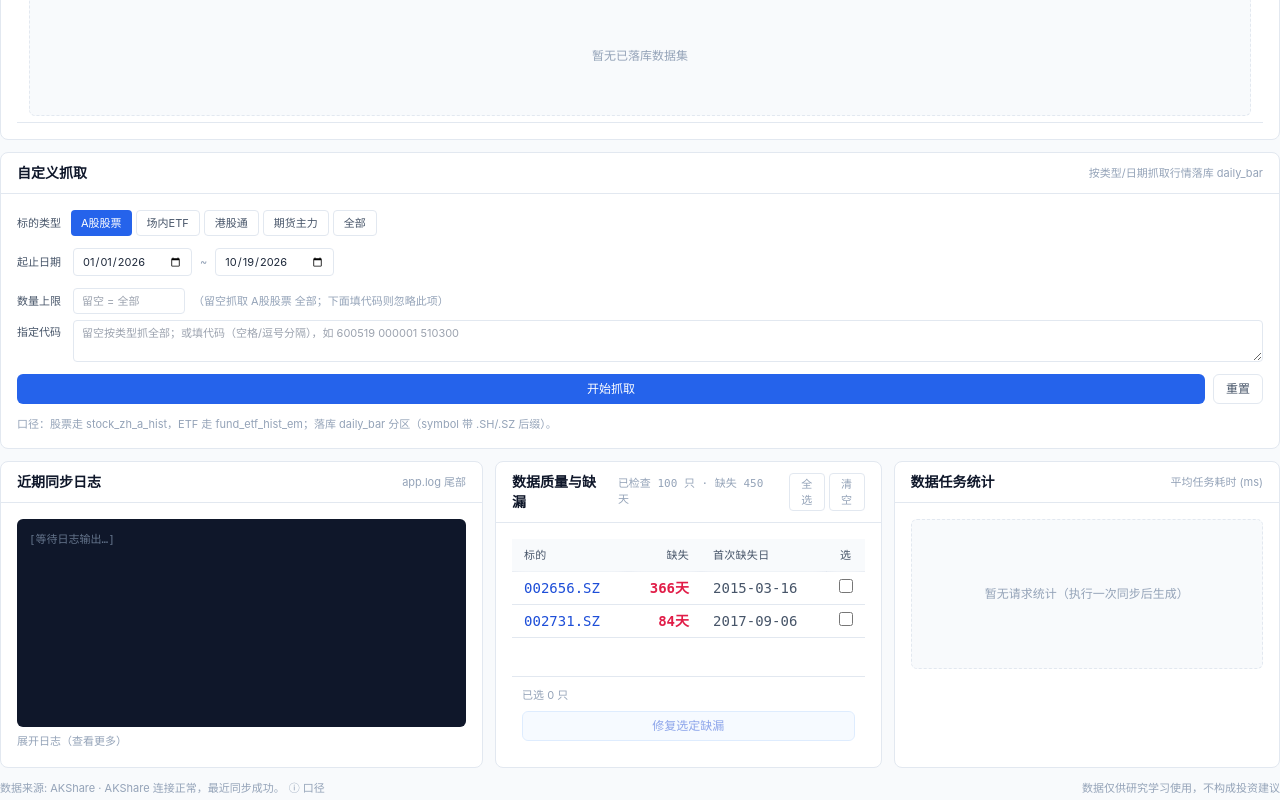
Test case: 修复缺漏后质量表必须刷新 › 手动「修复选定缺漏」确认后，任务结束同样触发质量面板刷新
The image size is (1280, 800).
(page scrolled)
Expected: the link "002656.SZ" is shown, x1=524 y1=578 x2=600 y2=598
# 全选 → 修复选定缺漏 → 二次确认 → 触发 sync（走 startSync，进入运行态）
Click the button "全选" at [807, 492], box x1=789 y1=473 x2=825 y2=511
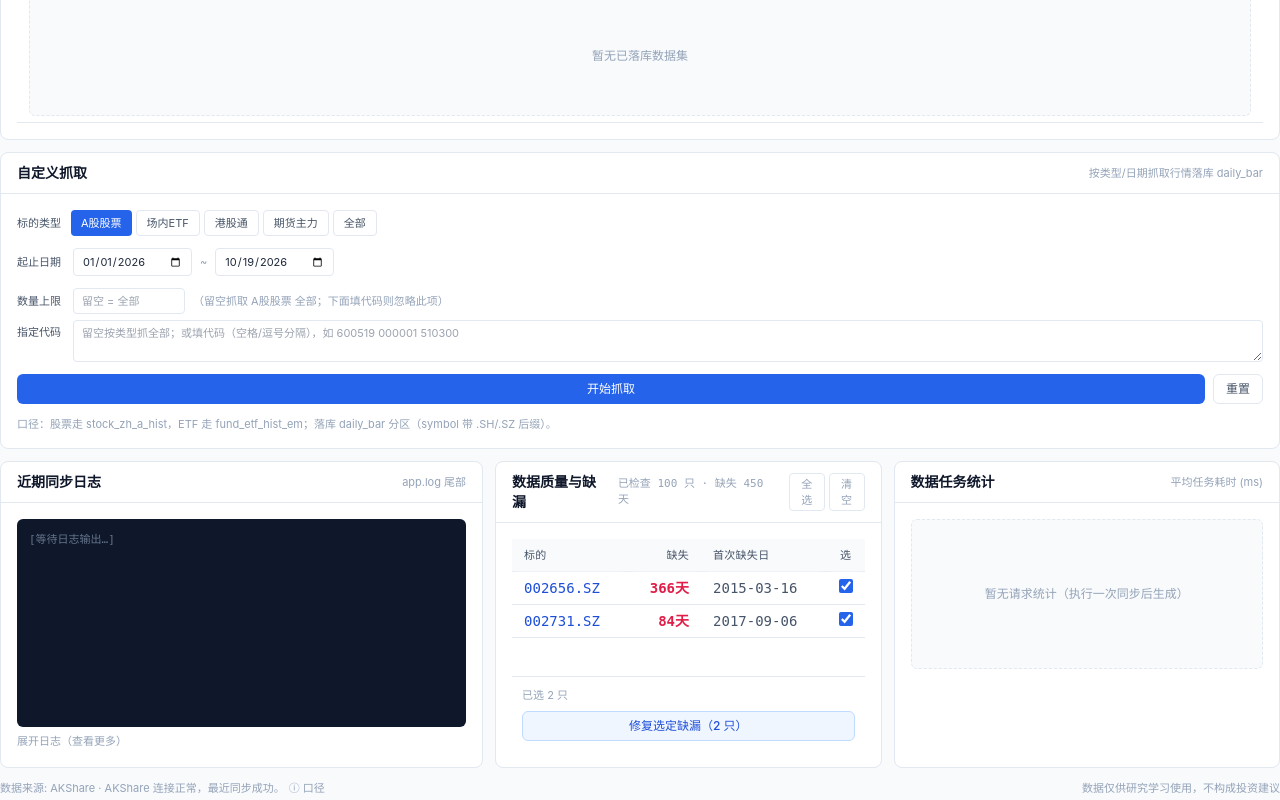
Click the button "修复选定缺漏（2 只）" at [688, 726], box x1=522 y1=711 x2=855 y2=741
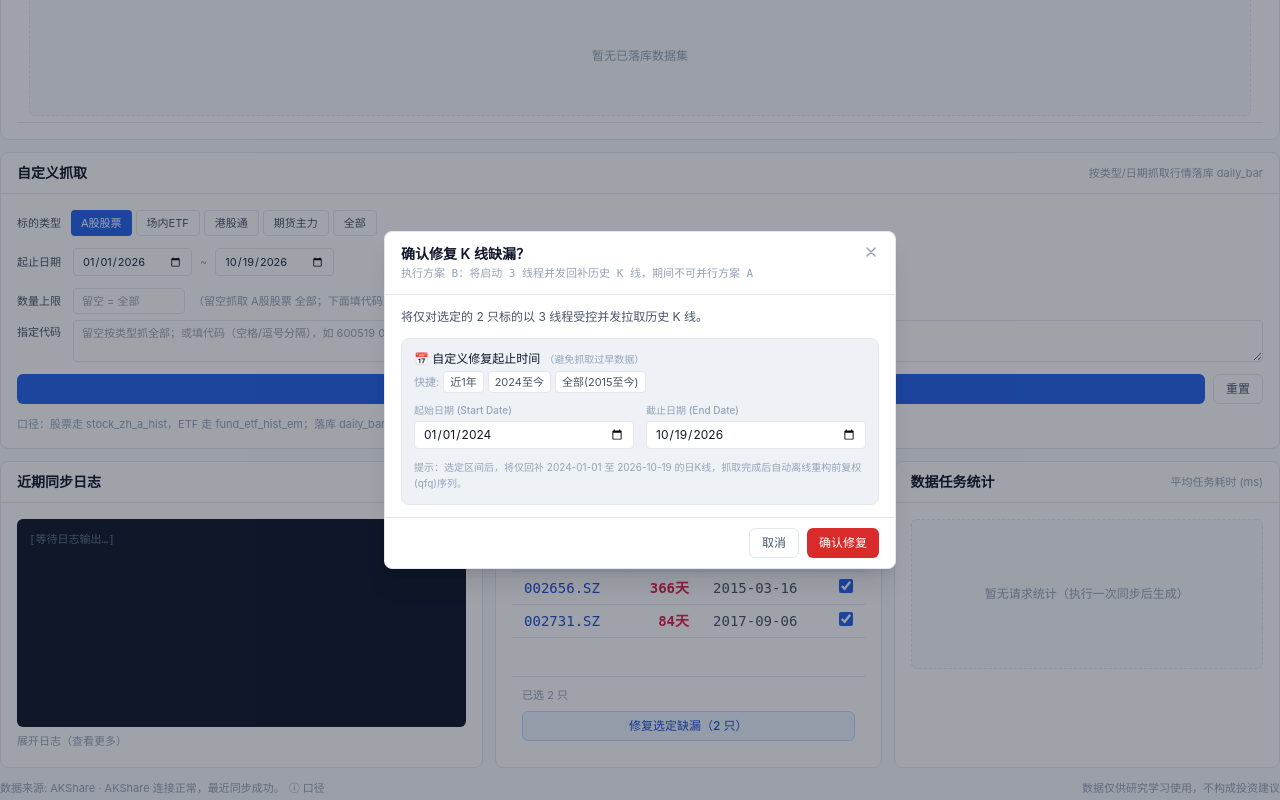
Click the button "确认修复" at [843, 543], box x1=807 y1=528 x2=879 y2=558
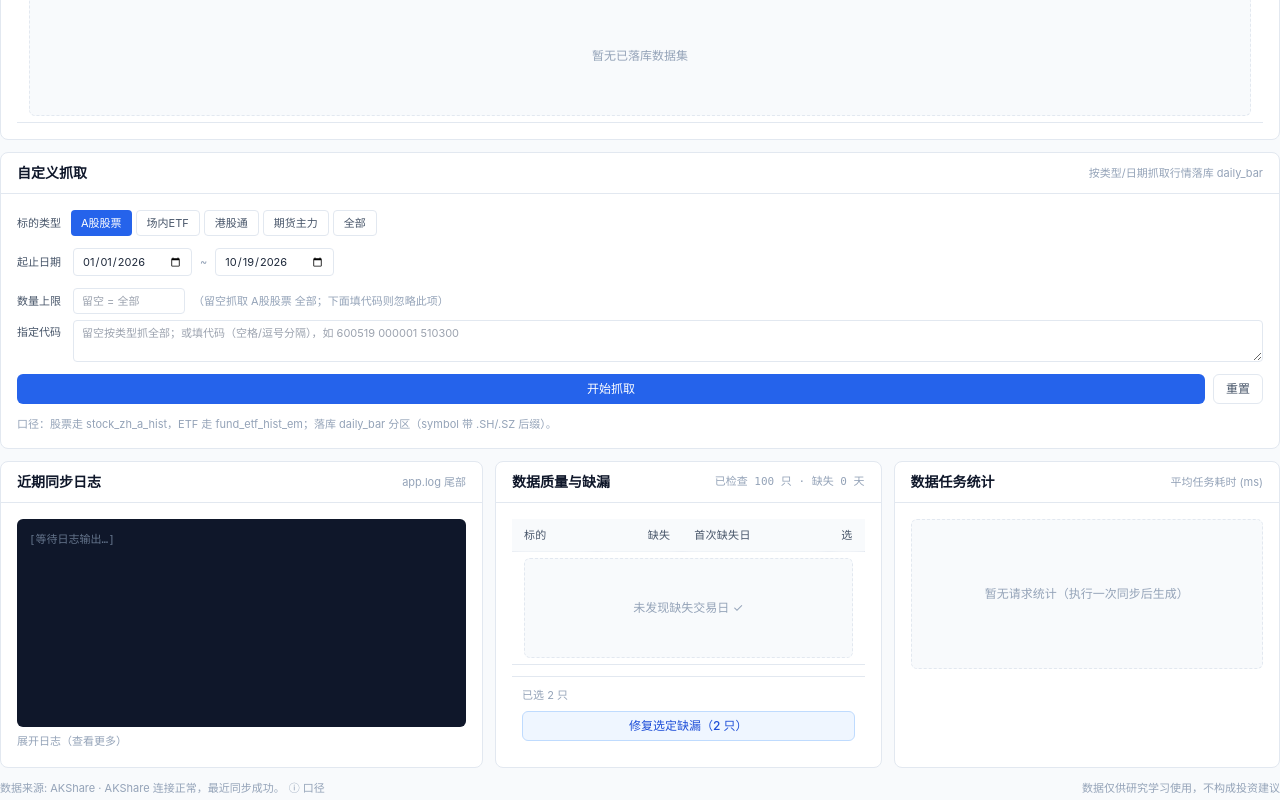
Expected: the link "002656.SZ" is gone
